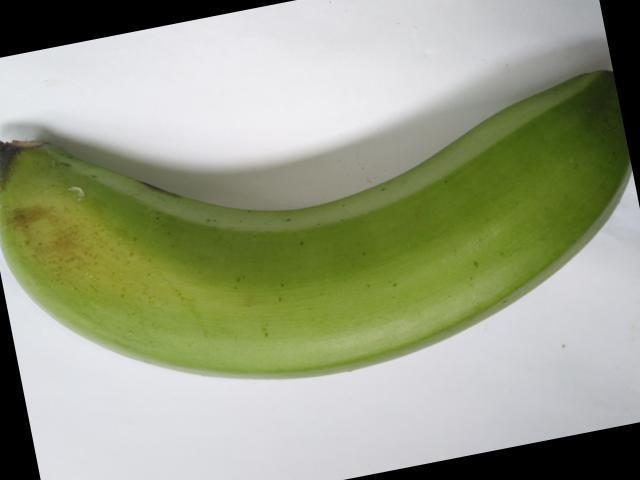freshunripe: (0, 41, 639, 393)
